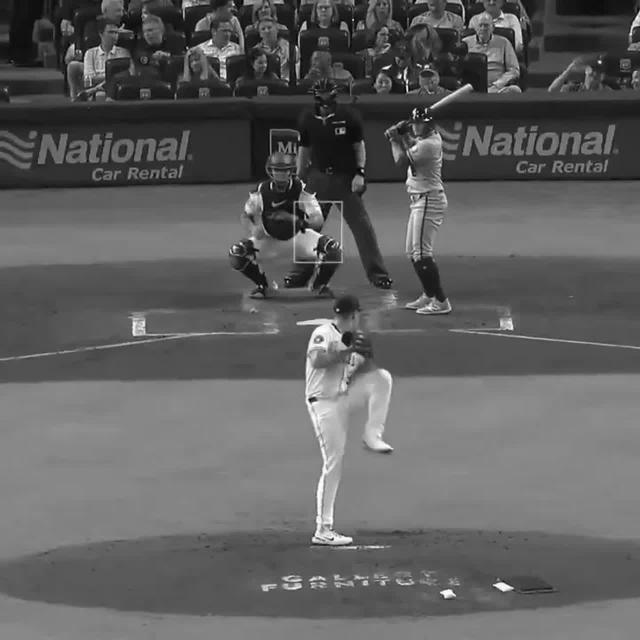base: (296, 316, 335, 326)
baseball_glove: (263, 215, 306, 235), (344, 332, 374, 357)
bat: (387, 78, 479, 144)
shoe: (361, 438, 394, 460), (313, 530, 351, 546), (419, 298, 450, 317), (307, 281, 336, 297), (246, 285, 274, 300), (404, 296, 428, 308)
